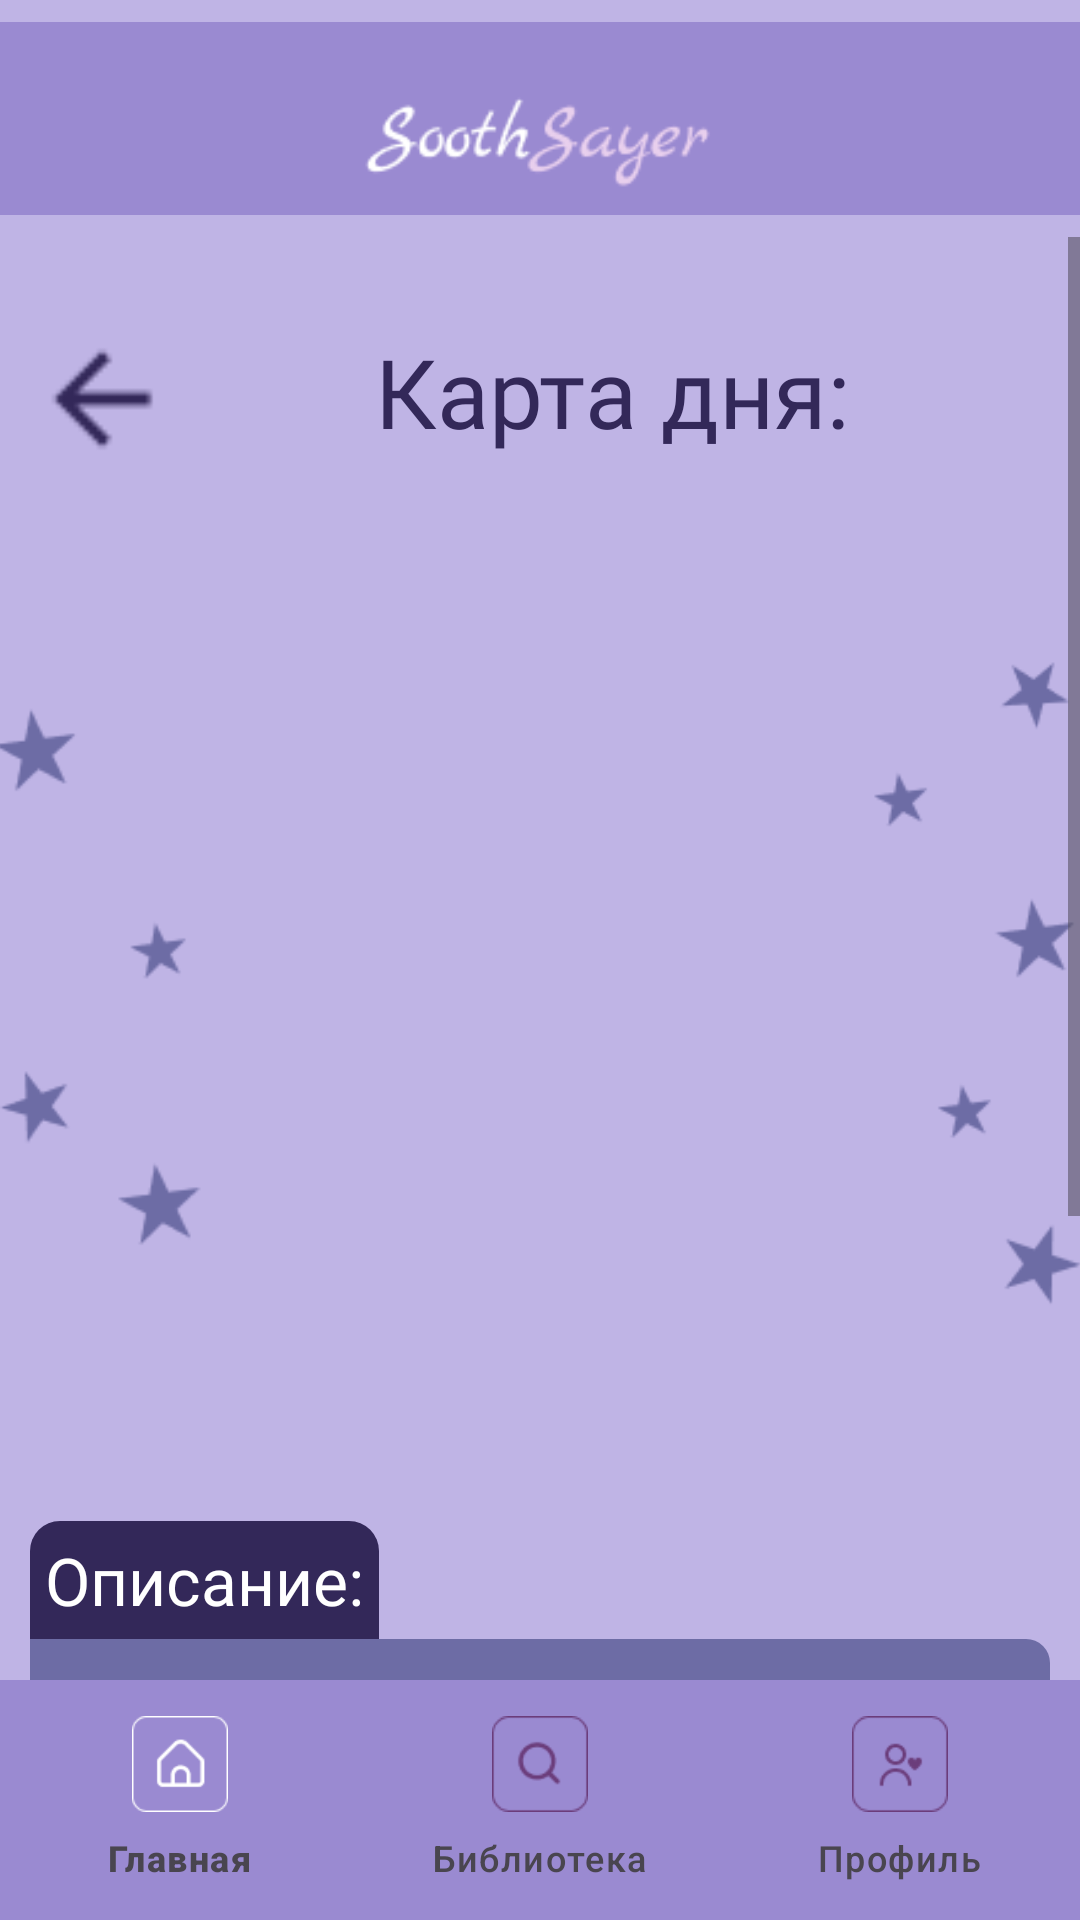

Named icons in this screenshot (1080px×1920px) and their centers, point (x, y):
back: point (103, 399)
